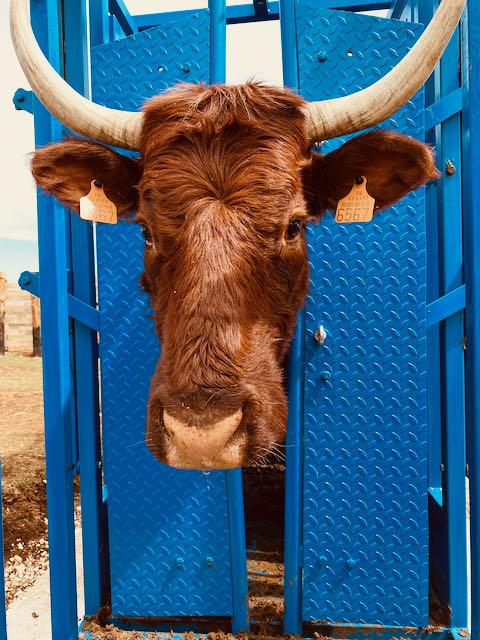muzzles: (129, 390, 273, 479)
